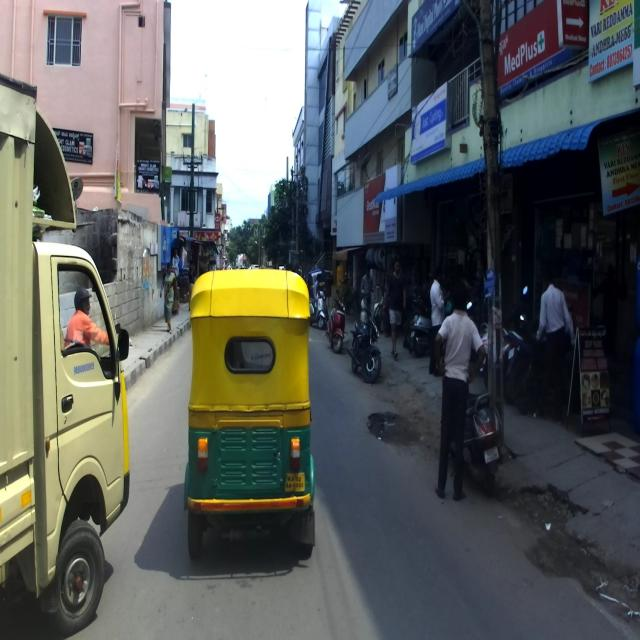autorickshaw: (183, 269, 315, 560)
motorcycle: (506, 322, 574, 403), (346, 306, 382, 383)
scooter: (451, 372, 509, 497), (409, 288, 452, 358), (480, 319, 506, 377), (325, 288, 345, 353), (309, 290, 329, 329)
truck: (0, 47, 132, 632)
